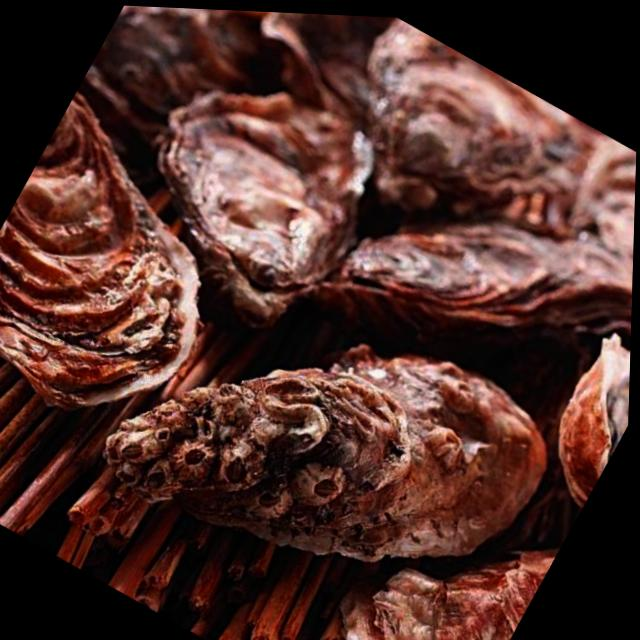Oyster-Closed: (0, 94, 198, 412), (154, 90, 373, 332)
Oyster-Indeterminate: (103, 345, 548, 566), (328, 141, 636, 436), (366, 18, 591, 208), (204, 9, 453, 174), (68, 3, 267, 175), (344, 552, 556, 640), (556, 337, 630, 519), (568, 138, 636, 271)
